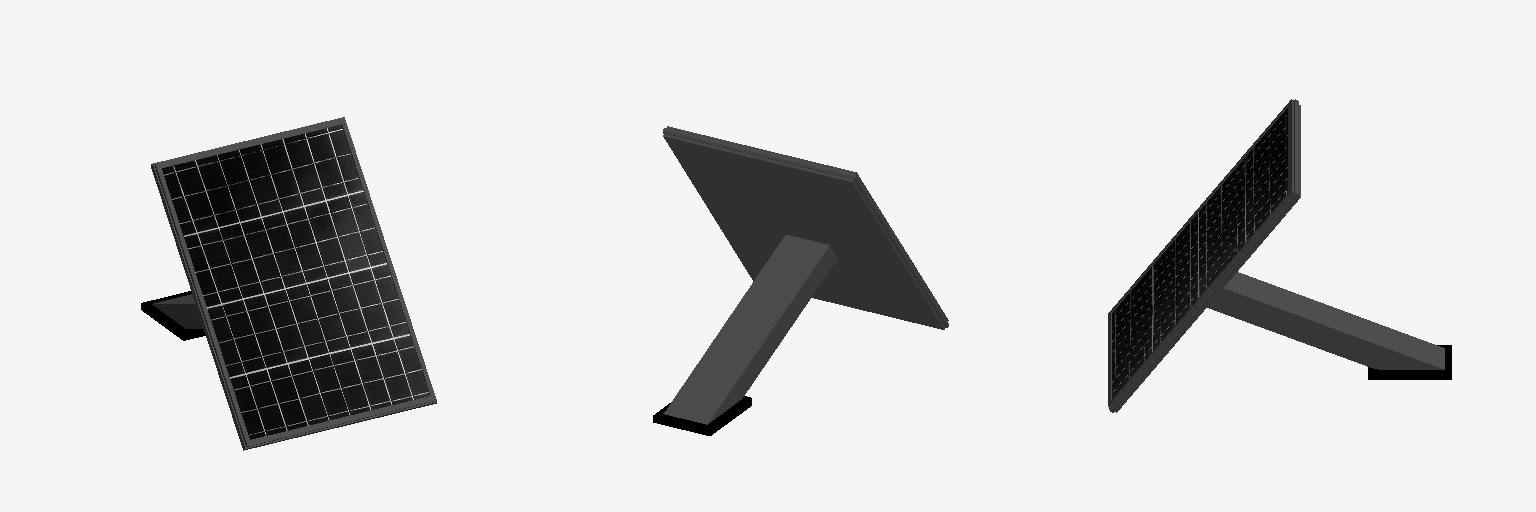
3 renders of one model, left to right at view 1: azimuth 30°, elevation 25°; view 2: azimuth 150°, elevation 25°; view 3: azimuth 270°, elevation 25°, orthographic.
Visible parts, largest first — view 1: solar; view 2: solar; view 3: solar.
Part boxes in pixels (bbox=[...]): solar: bbox=[141, 117, 436, 450]; solar: bbox=[653, 126, 948, 435]; solar: bbox=[1108, 99, 1451, 412].
Bounding box in the file's own units: 8.5 × 9.34 × 13.16.
Materials: 3 (1 with a texture image).